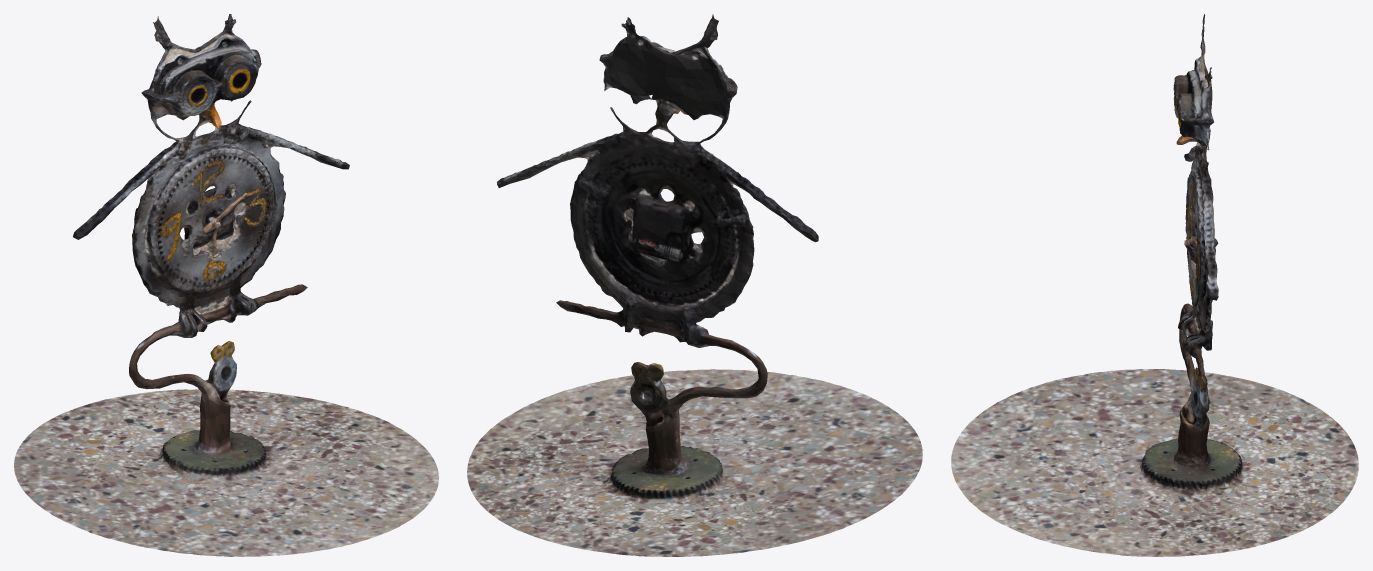
File: Metal-sculpture-parrot.glb
3 renders of one model, left to right at view 1: azimuth 30°, elevation 25°; view 2: azimuth 150°, elevation 25°; view 3: azimuth 270°, elevation 25°, orthographic. The views are drawn at different scales.
Bounding box in the file's own units: 0.574 × 0.6814 × 0.5745.
1 material, 1 textured.
